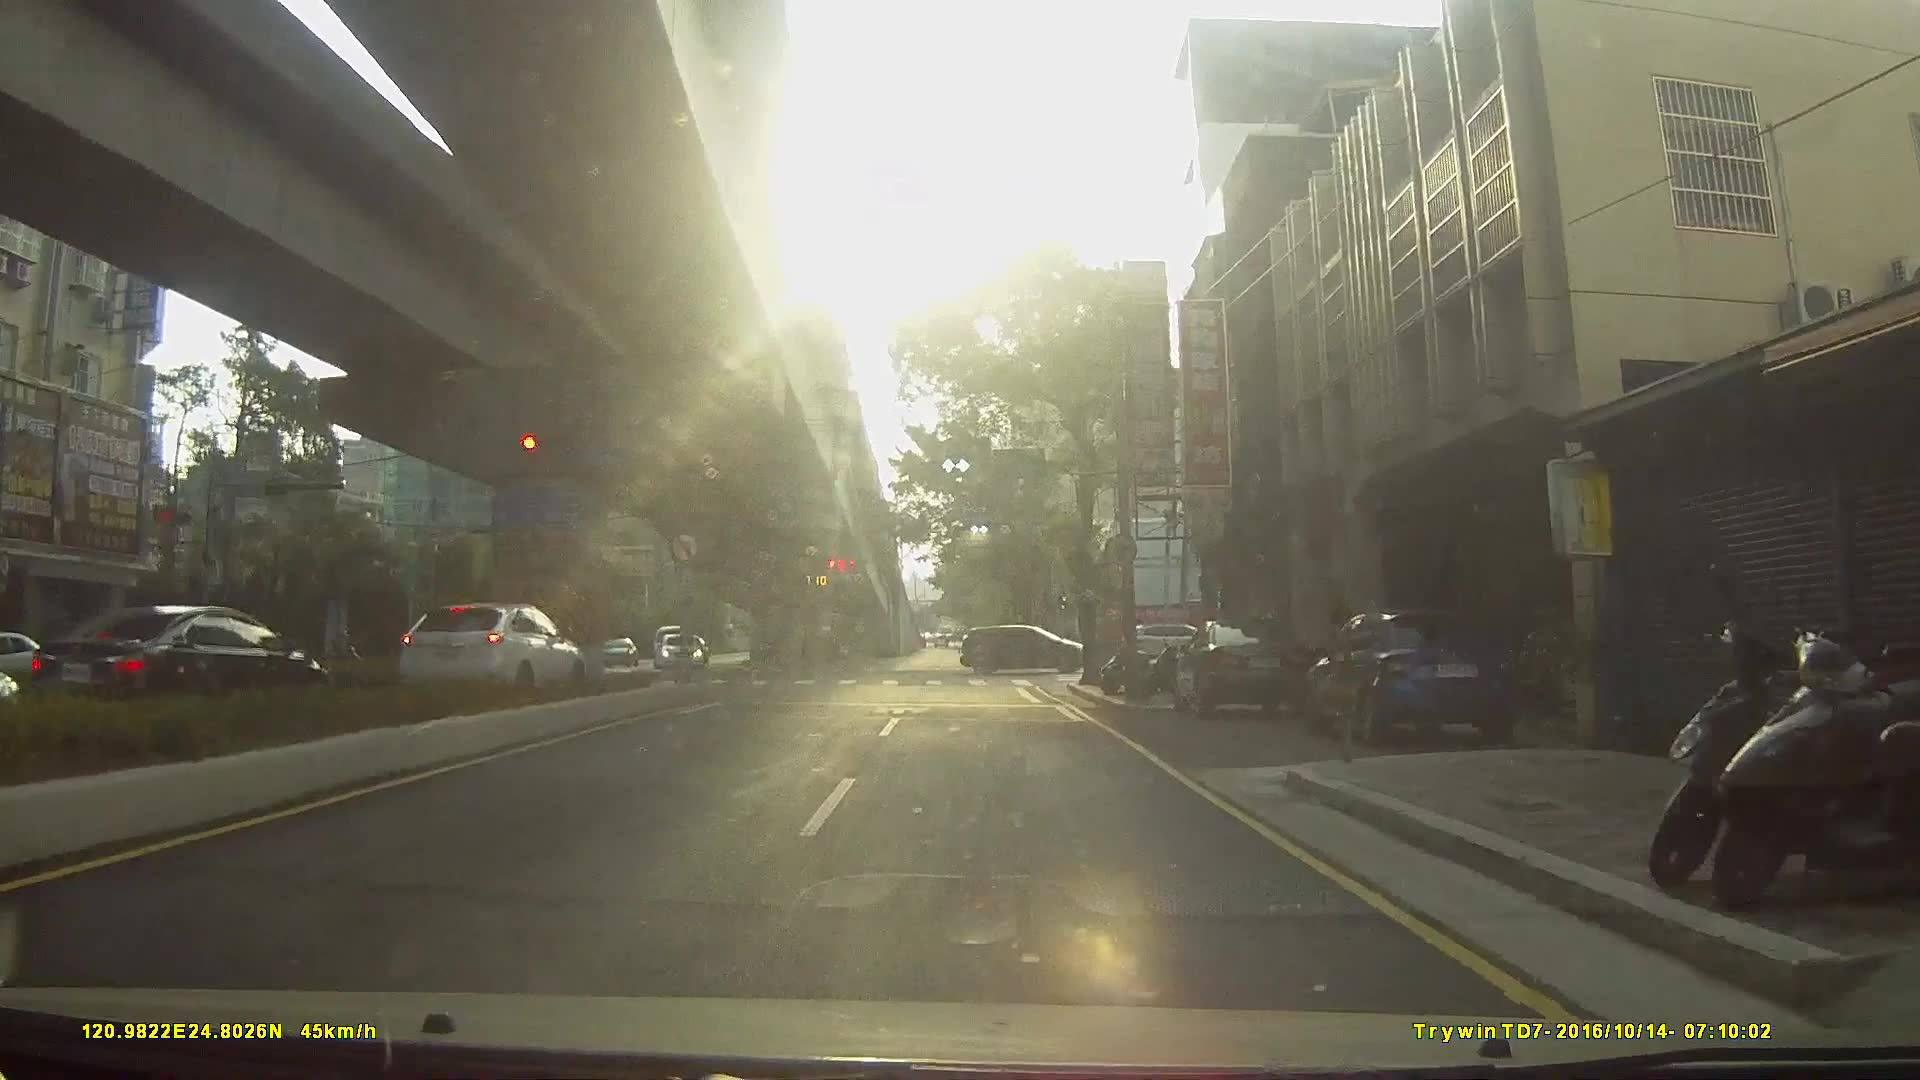vehicle: (18, 593, 342, 723), (1308, 608, 1534, 753), (386, 600, 588, 700), (1175, 617, 1317, 723), (961, 622, 1102, 676), (653, 629, 702, 669), (593, 636, 637, 667)
